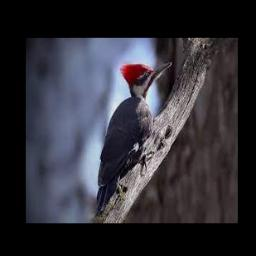Woodpecker: (95, 62, 171, 215)
